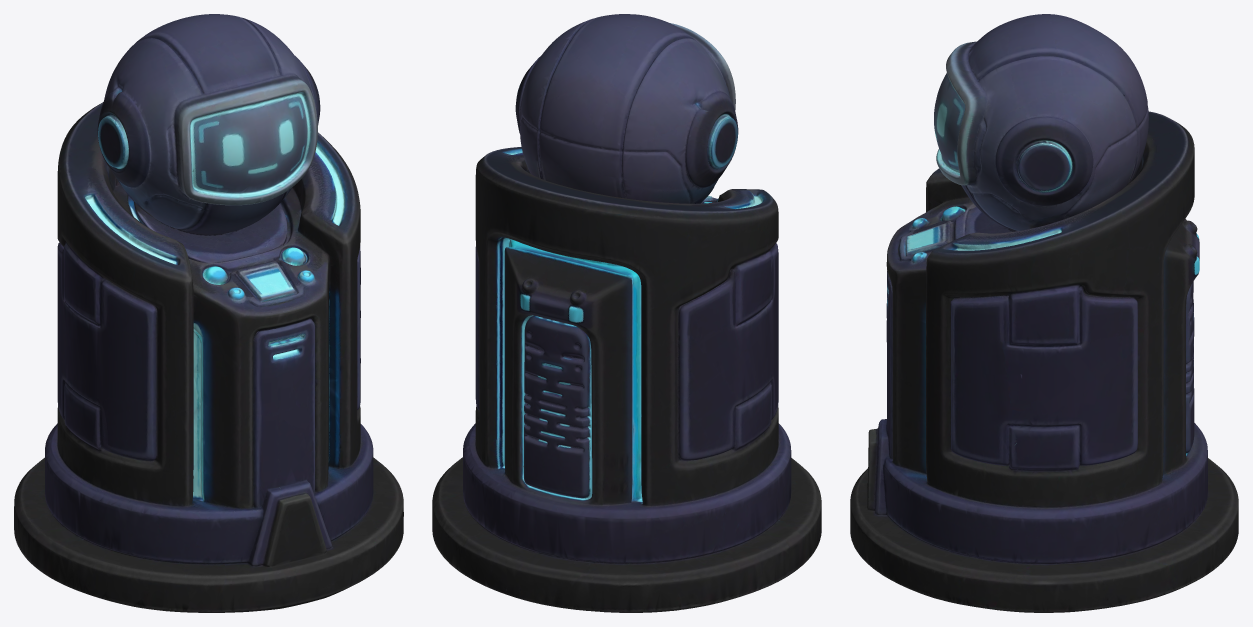
Rendered from sentinel.glb.
The picture shows the model from 3 angles, left to right: view 1: azimuth 30°, elevation 25°; view 2: azimuth 150°, elevation 25°; view 3: azimuth 270°, elevation 25°; orthographic projection.
Bounding box in the file's own units: 1.31 × 1.9 × 1.31.
1 material, 1 textured.
